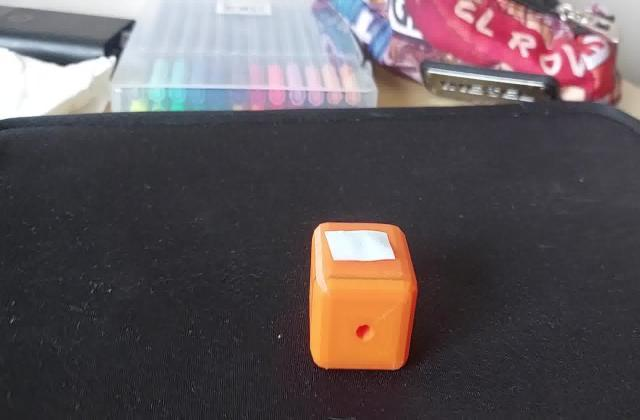cube: (305, 218, 423, 374)
white: (327, 231, 397, 268)
